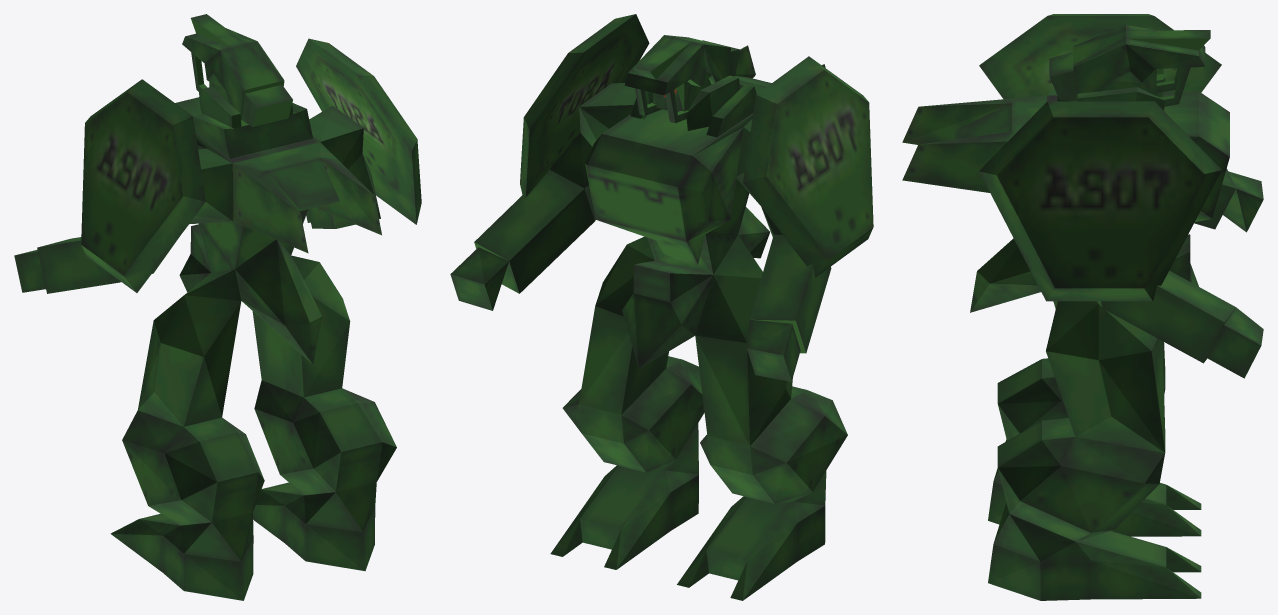
Rendered from valkenv.ico.obj.
3 renders of one model, left to right at view 1: azimuth 30°, elevation 25°; view 2: azimuth 150°, elevation 25°; view 3: azimuth 270°, elevation 25°, orthographic. The views are drawn at different scales.
Size of the model in its own units: 3.02 by 4.44 by 2.81.
Materials: 1 (1 with a texture image).
